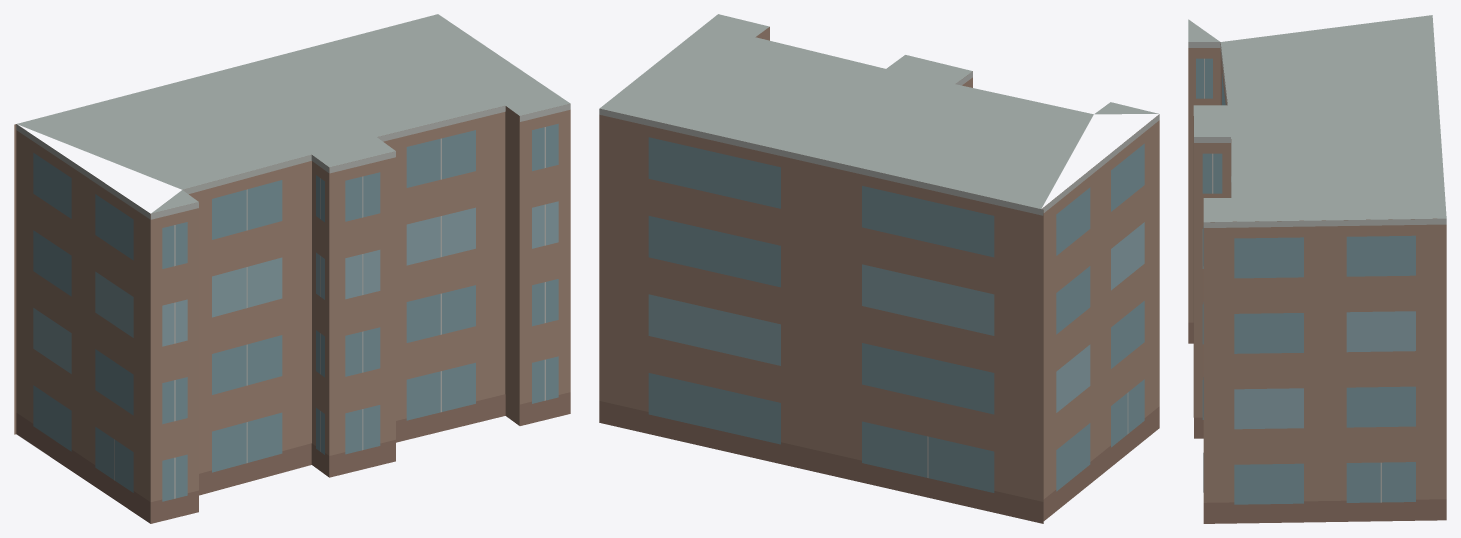
Rendered from survey-upis-32749852.glb.
The picture shows the model from 3 angles, left to right: view 1: azimuth 30°, elevation 25°; view 2: azimuth 150°, elevation 25°; view 3: azimuth 270°, elevation 25°; orthographic projection. The views are drawn at different scales.
Visible parts, largest first — view 1: survey-upis-32749852.tmp; view 2: survey-upis-32749852.tmp; view 3: survey-upis-32749852.tmp.
Part boxes in pixels (x1,y1,x2,y2): survey-upis-32749852.tmp: (14, 14, 570, 523); survey-upis-32749852.tmp: (599, 14, 1159, 523); survey-upis-32749852.tmp: (1188, 15, 1446, 523).
Bounding box in the file's own units: 18.36 × 12.4 × 9.64.
